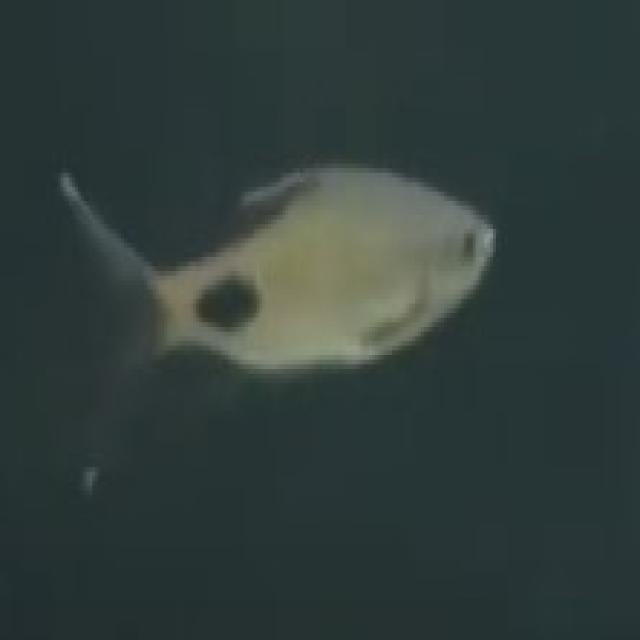Black-Spotted-Barb: (26, 90, 571, 516)
